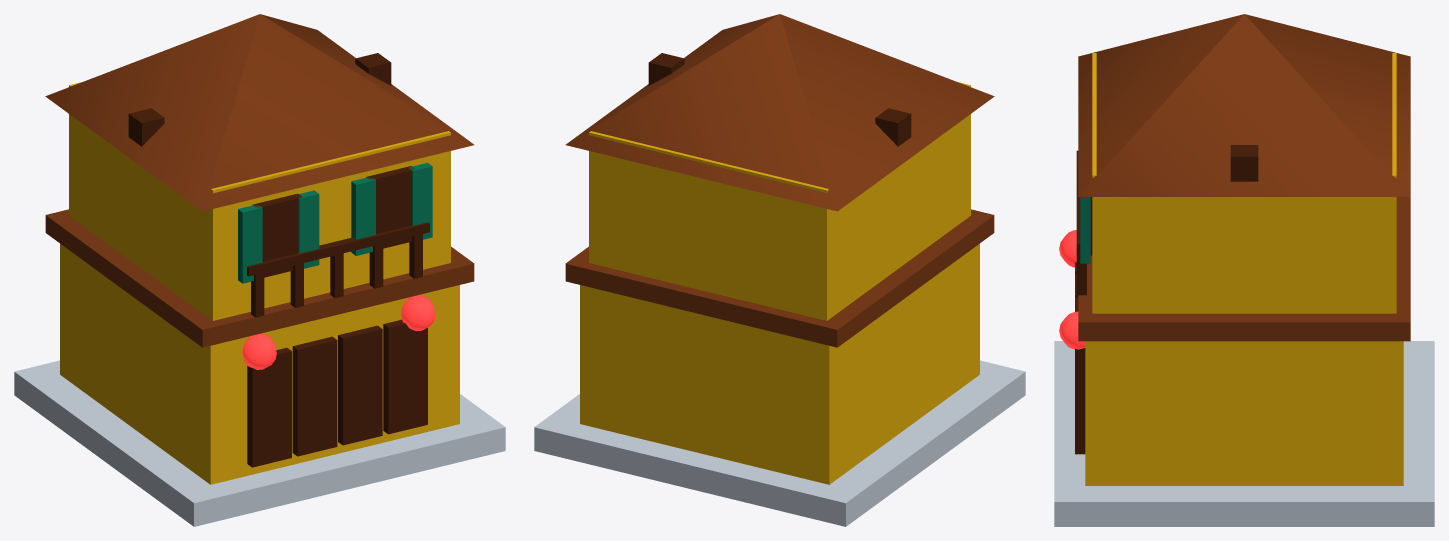
Rendered from bld_heritage_c1.glb.
3 views of the same model, side by side, from view 1: azimuth 30°, elevation 25°; view 2: azimuth 150°, elevation 25°; view 3: azimuth 270°, elevation 25° (orthographic). The views are drawn at different scales.
Visible parts, largest first — view 1: Bld_Heritage_C1_OldTownTubehouse; view 2: Bld_Heritage_C1_OldTownTubehouse; view 3: Bld_Heritage_C1_OldTownTubehouse.
Part boxes in pixels (left/top/right/bottom): Bld_Heritage_C1_OldTownTubehouse: left=14, top=14, right=505, bottom=526; Bld_Heritage_C1_OldTownTubehouse: left=534, top=14, right=1025, bottom=526; Bld_Heritage_C1_OldTownTubehouse: left=1054, top=14, right=1434, bottom=526.
Bounding box in the file's own units: 0.55 × 0.69 × 0.55.
